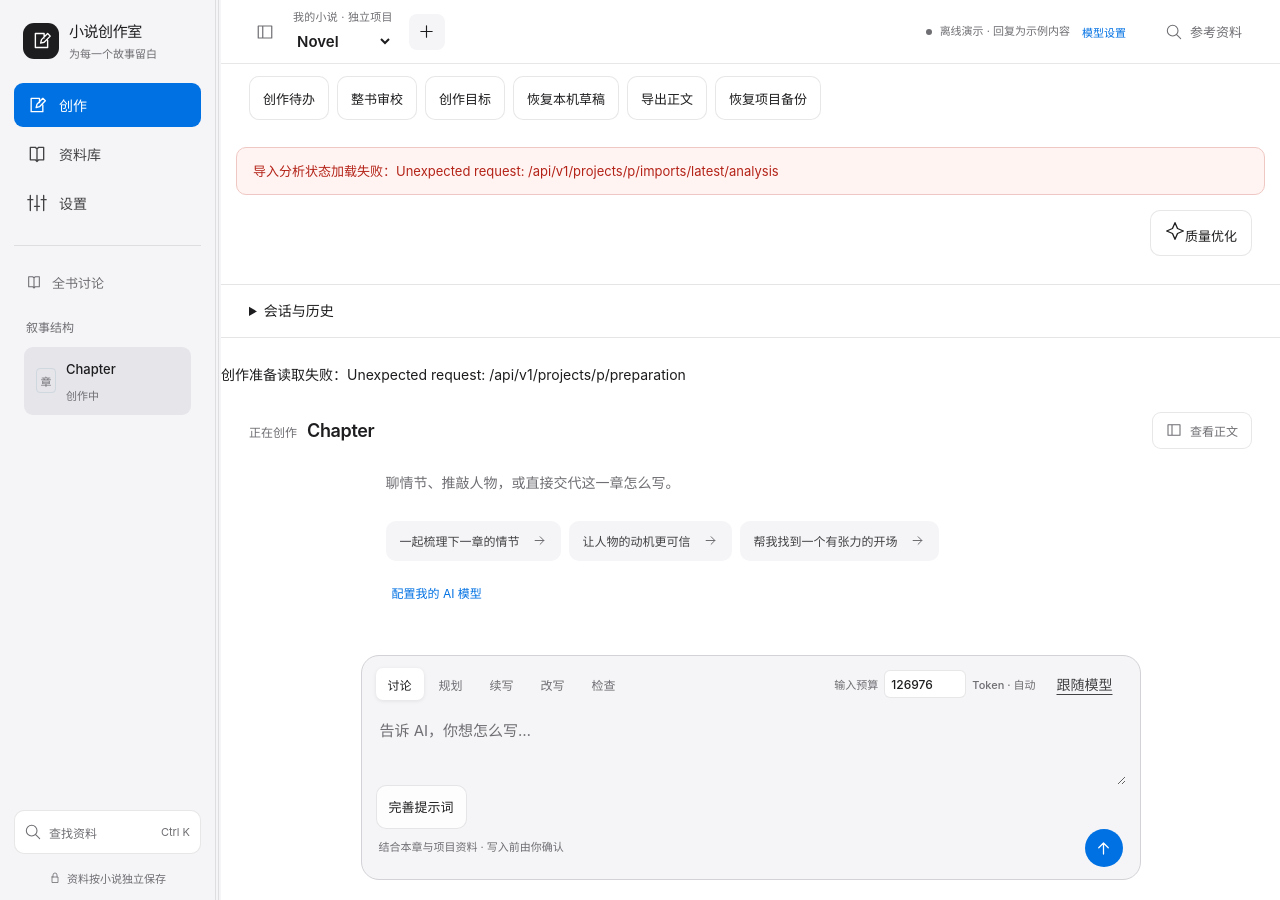
does not claim retrieval reactivation when restore reports no dependents
(page scrolled)
Click the button "资料库" at (108, 154), box [14,132,201,176]
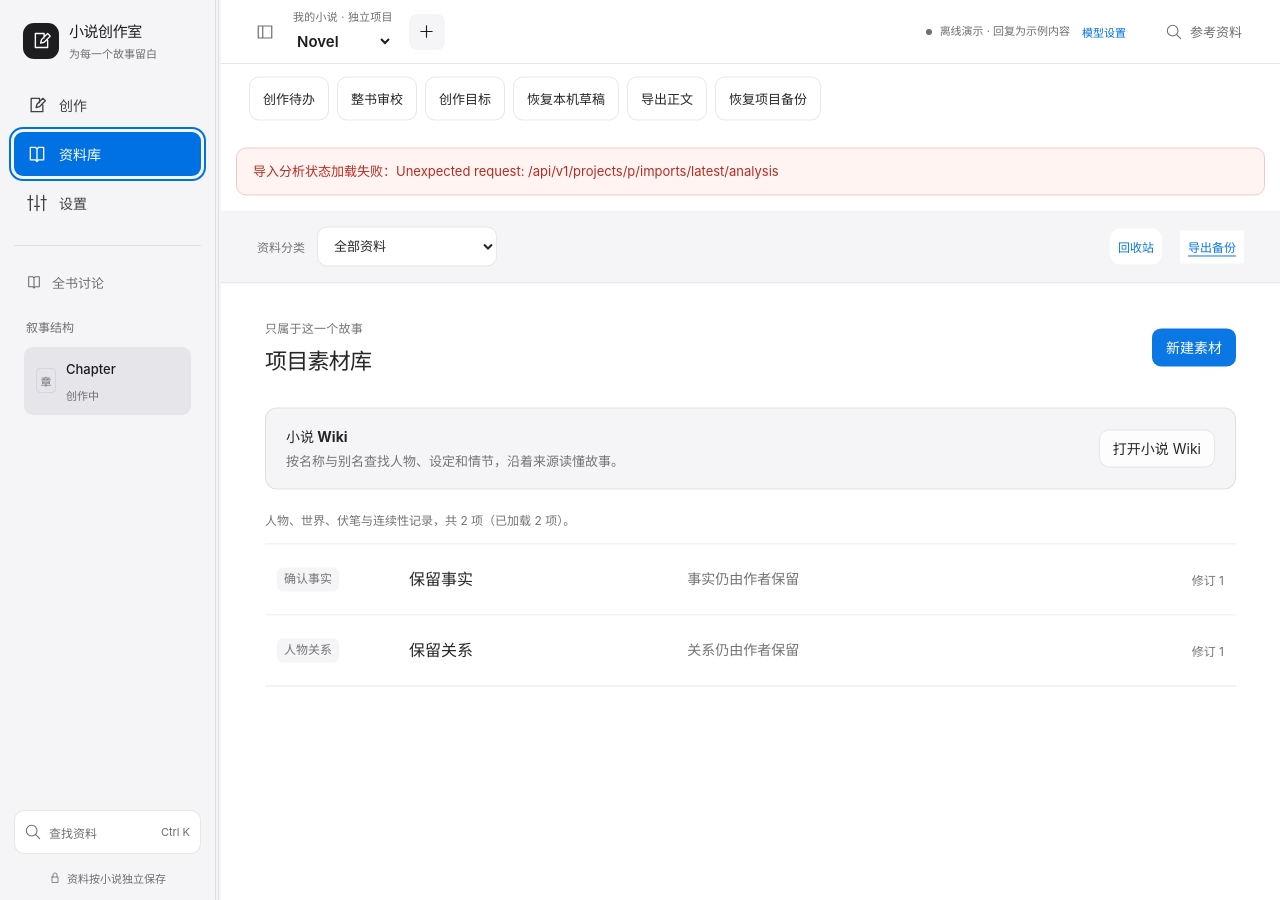
Click the button "回收站" at (1136, 246), box [1110,228,1162,264]
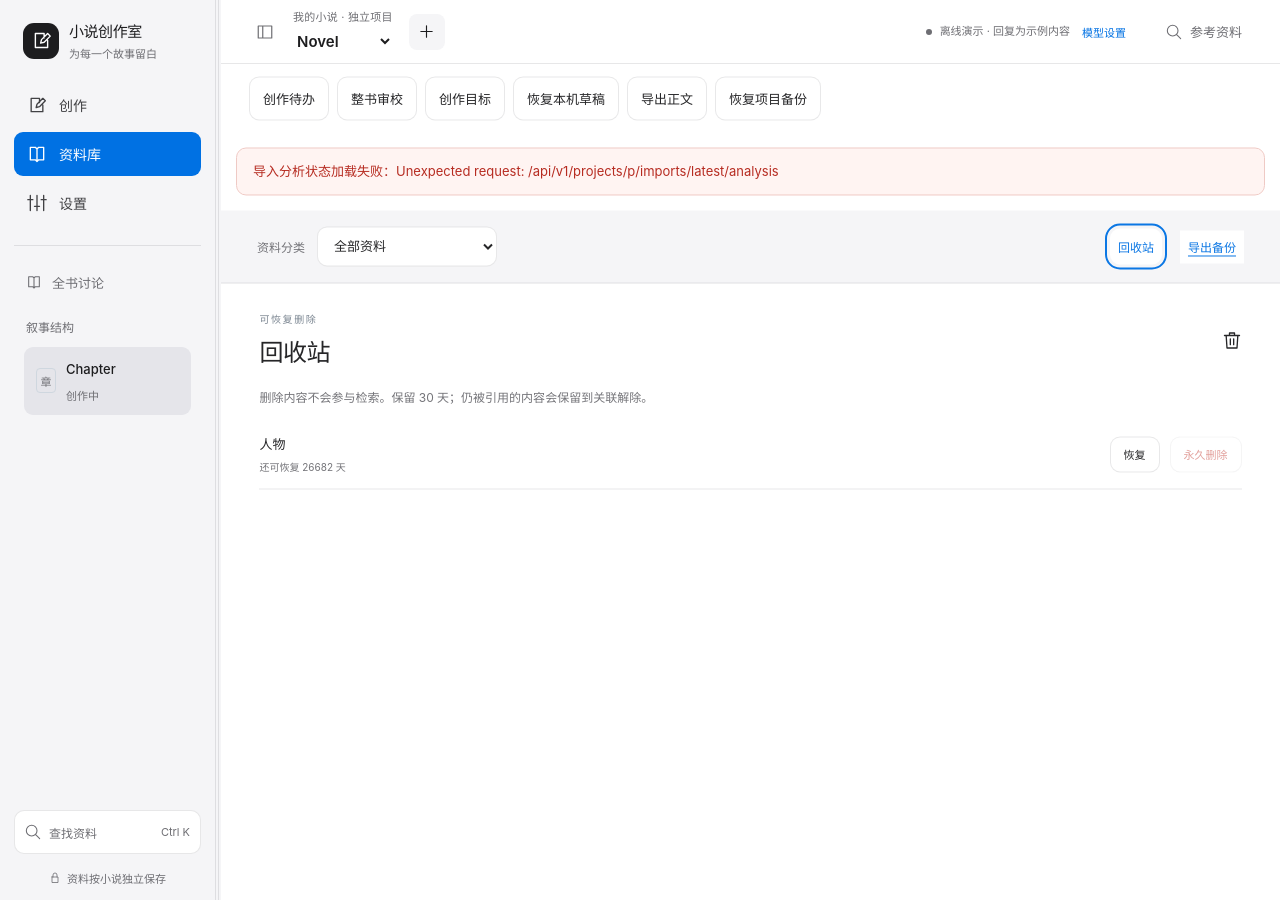
Click the button with aria-label "恢复人物" at (1135, 455), box [1110,437,1160,473]
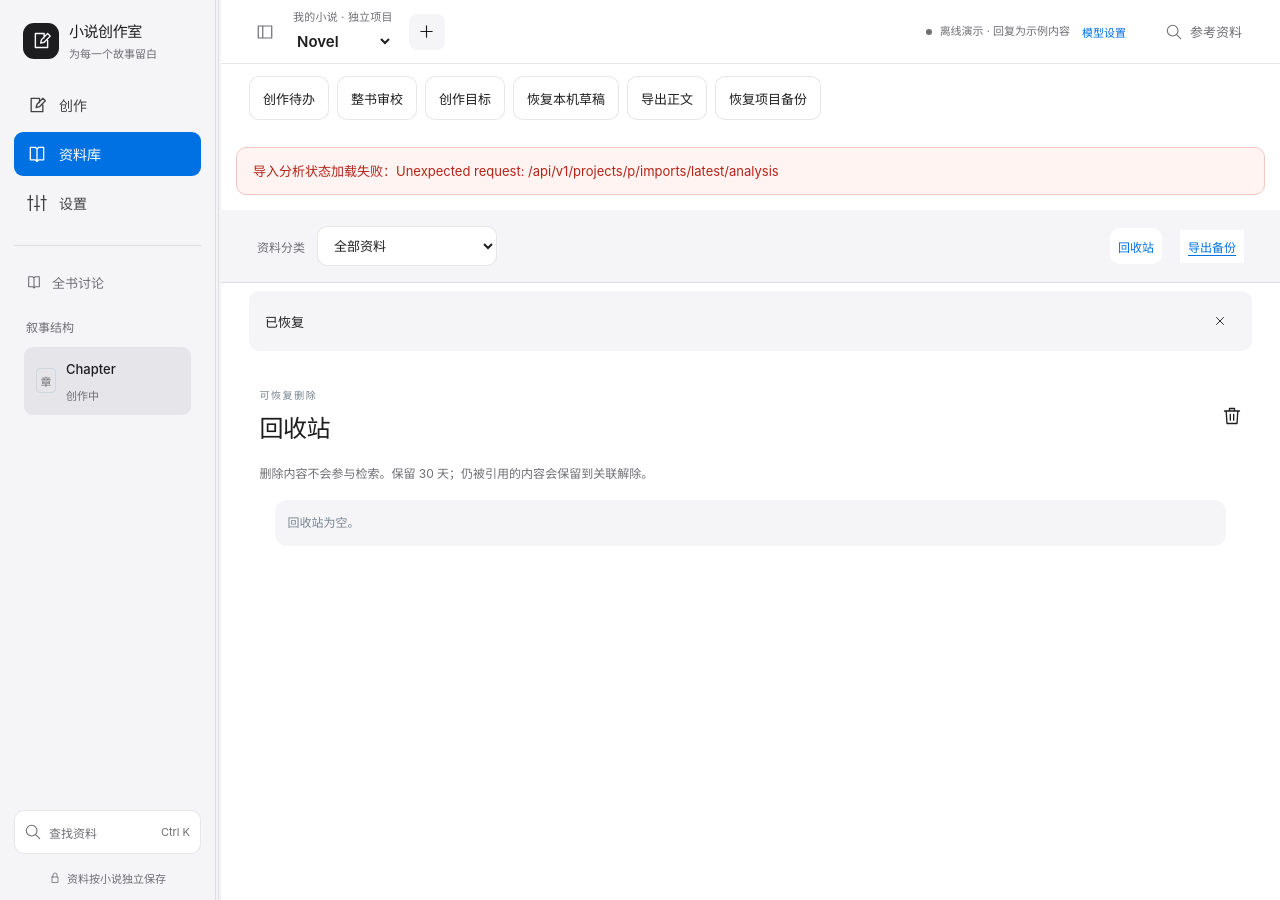
Check: the message does not show "重新加入检索", box [249,291,1252,351]
Check: the message reads "已恢复", box [265,314,304,330]
